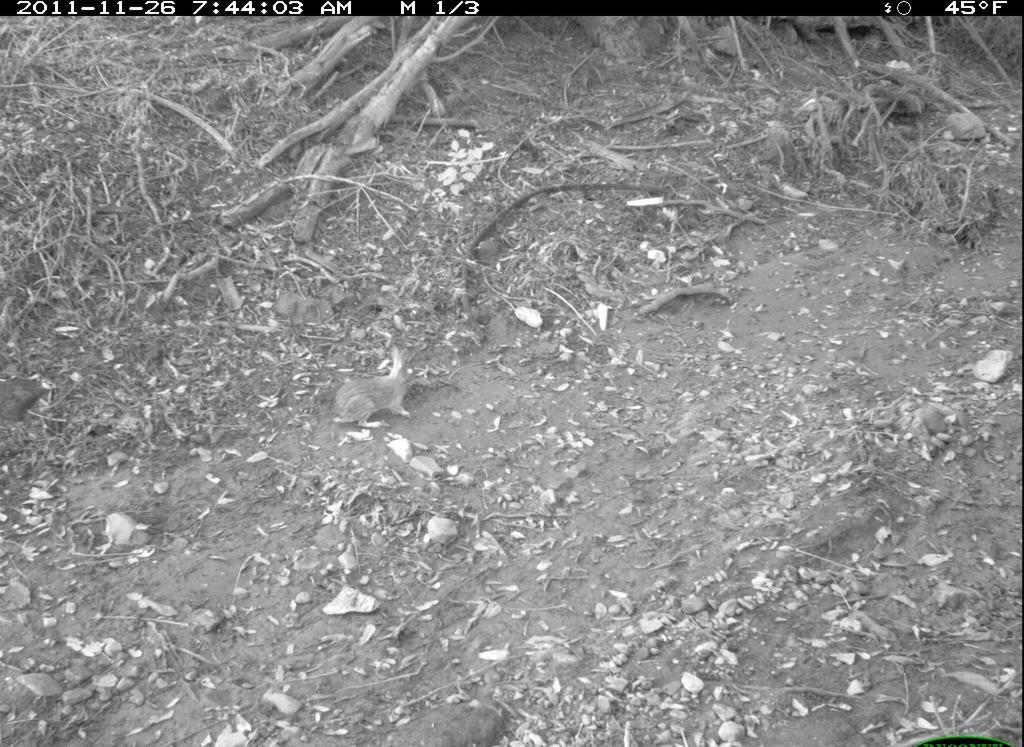rabbit: (329, 340, 434, 437)
